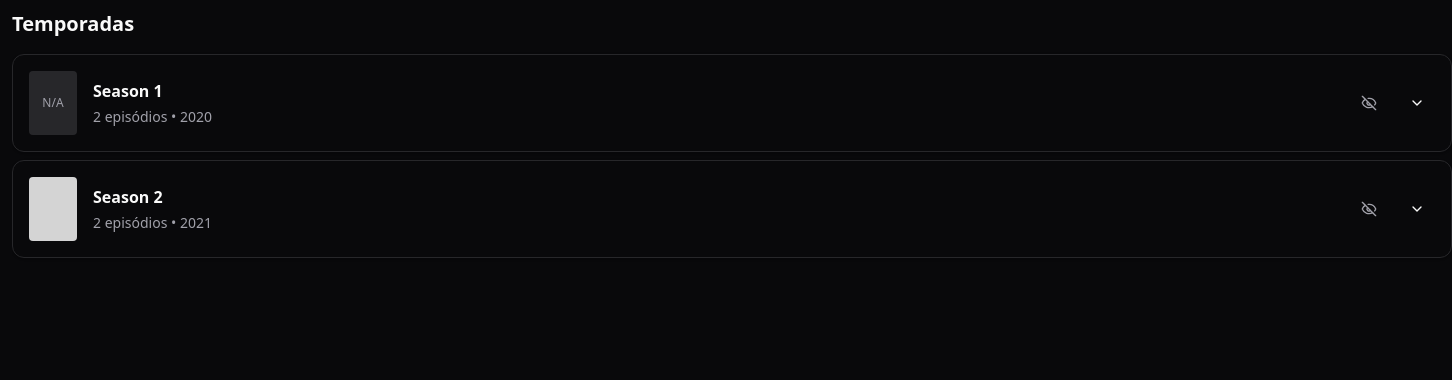
Test: SeasonList › shows episode fallbacks for missing air date and overview
Click the heading "Season 1": (128, 91) [93,80,163,102]
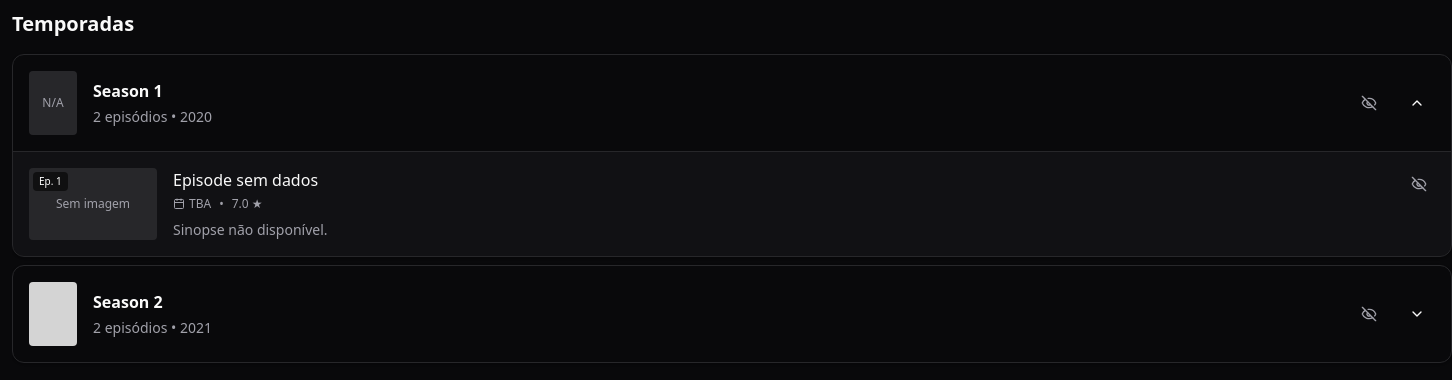
Expected: the text "TBA" is shown, [173,196,211,212]
Expected: the text "Sinopse não disponível." is shown, [173,220,328,239]
